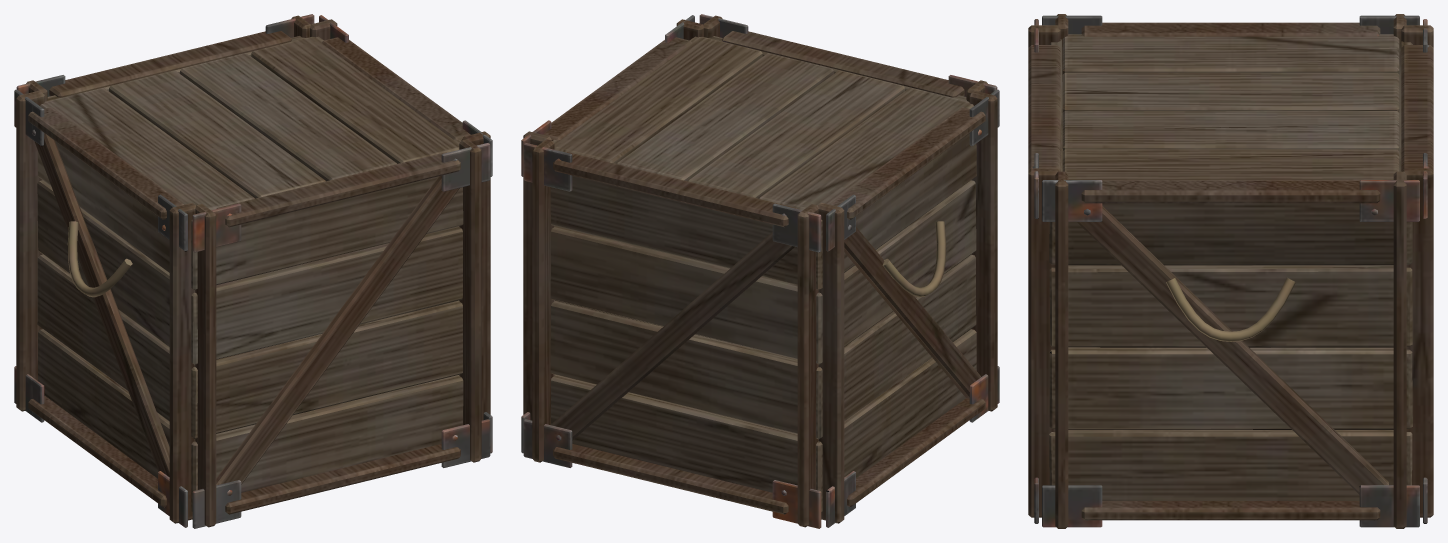
The model's file is crate.glb.
3 views of the same model, side by side, from view 1: azimuth 30°, elevation 25°; view 2: azimuth 150°, elevation 25°; view 3: azimuth 270°, elevation 25° (orthographic). The views are drawn at different scales.
Parts seen in each view (by area): view 1: crate; view 2: crate; view 3: crate.
Boxes of the visible parts, x1,y1,x2,y2 form: crate: (14, 14, 492, 528); crate: (521, 14, 999, 528); crate: (1028, 14, 1433, 528).
Size of the model in its own units: 1.16 by 1.01 by 1.07.
1 material, 1 textured.
